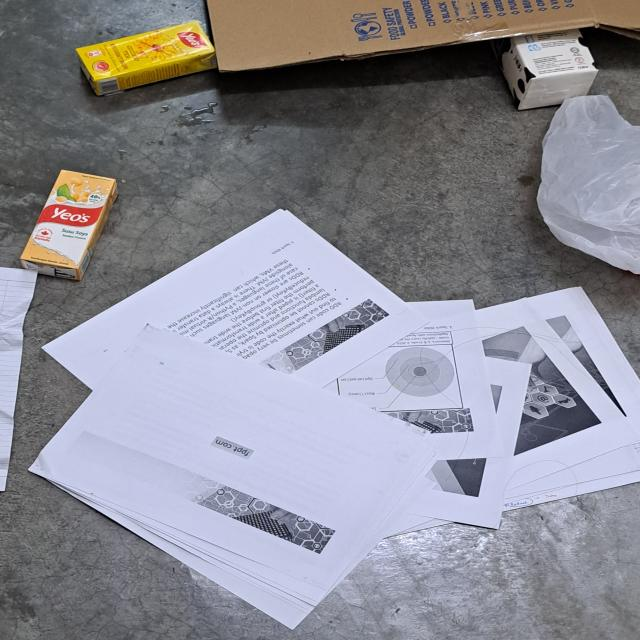cardboard: (202, 0, 640, 73)
drink carton: (21, 167, 119, 282), (78, 20, 218, 96), (496, 30, 597, 111)
paper: (29, 210, 640, 630), (0, 264, 39, 492)
plastic bag: (537, 95, 640, 275)
